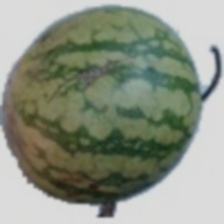watermelon: (42, 33, 184, 194)
